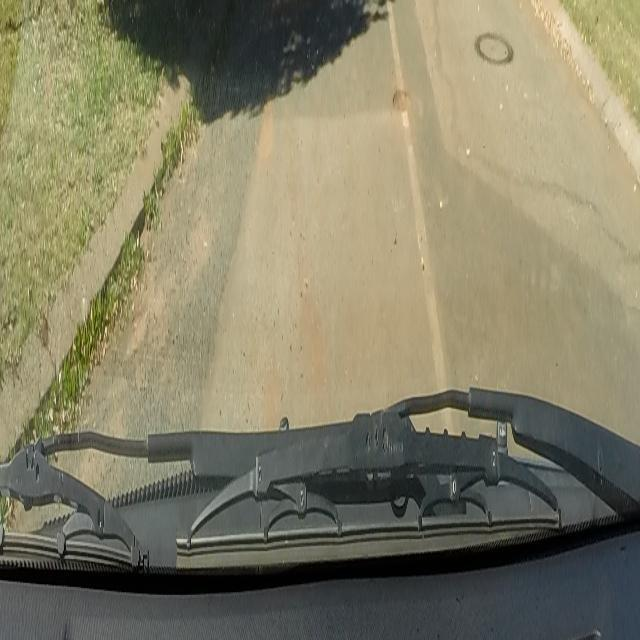pothole: (392, 85, 410, 114)
